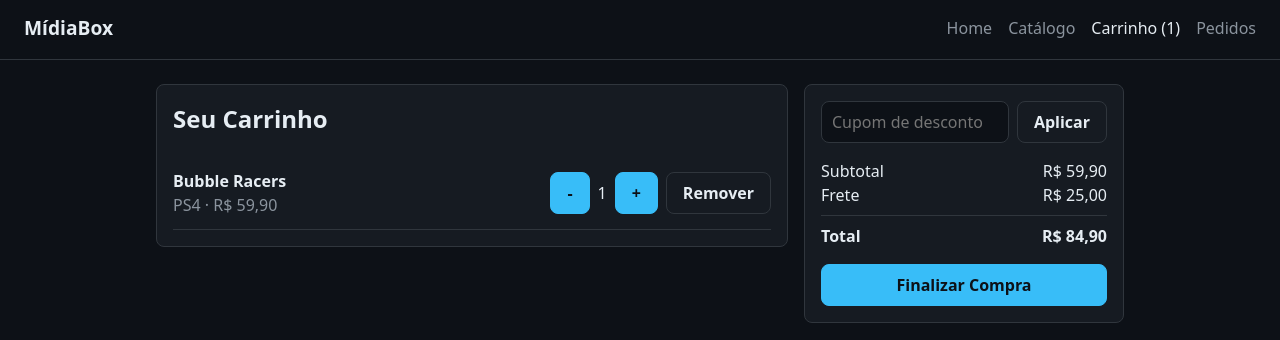
Scenario: página Carrinho › o botão + trava no limite de 3 unidades
Click the button named "Aumentar Bubble Racers": (636, 193) [615,172,658,214]
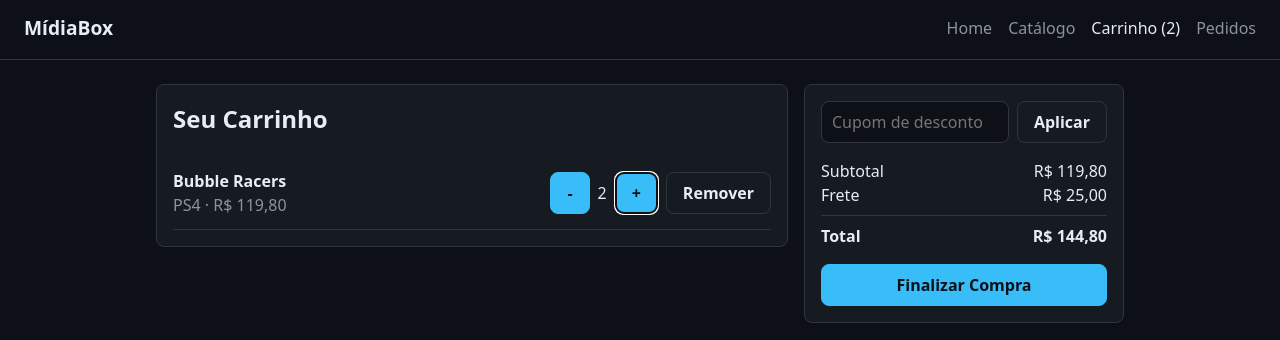
Click the button named "Aumentar Bubble Racers": (636, 193) [615,172,658,214]
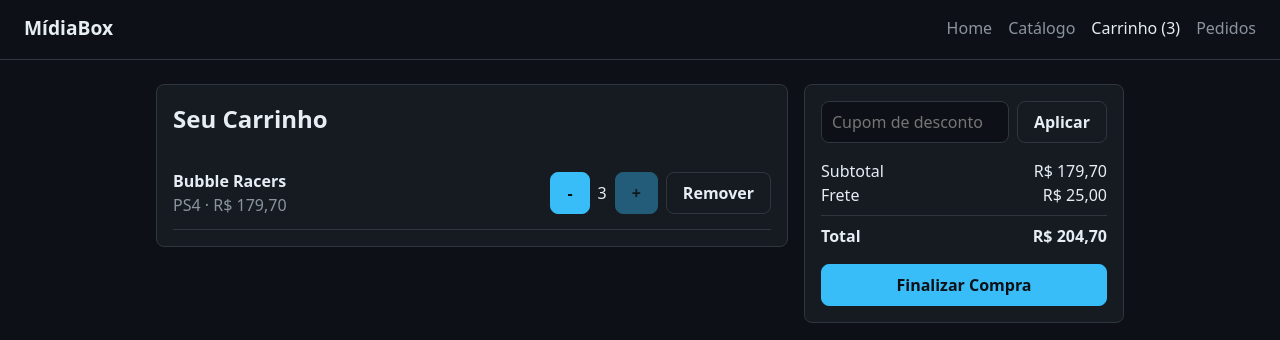
expect the link "Carrinho (3)" is shown: met, box [1091,16,1180,40]
expect the button named "Aumentar Bubble Racers" is disabled: met, box [615,172,658,214]
